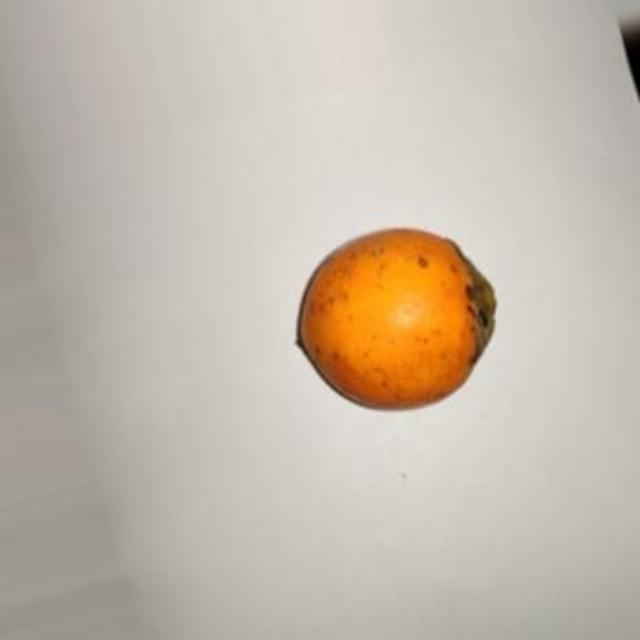good: (296, 229, 497, 413)
